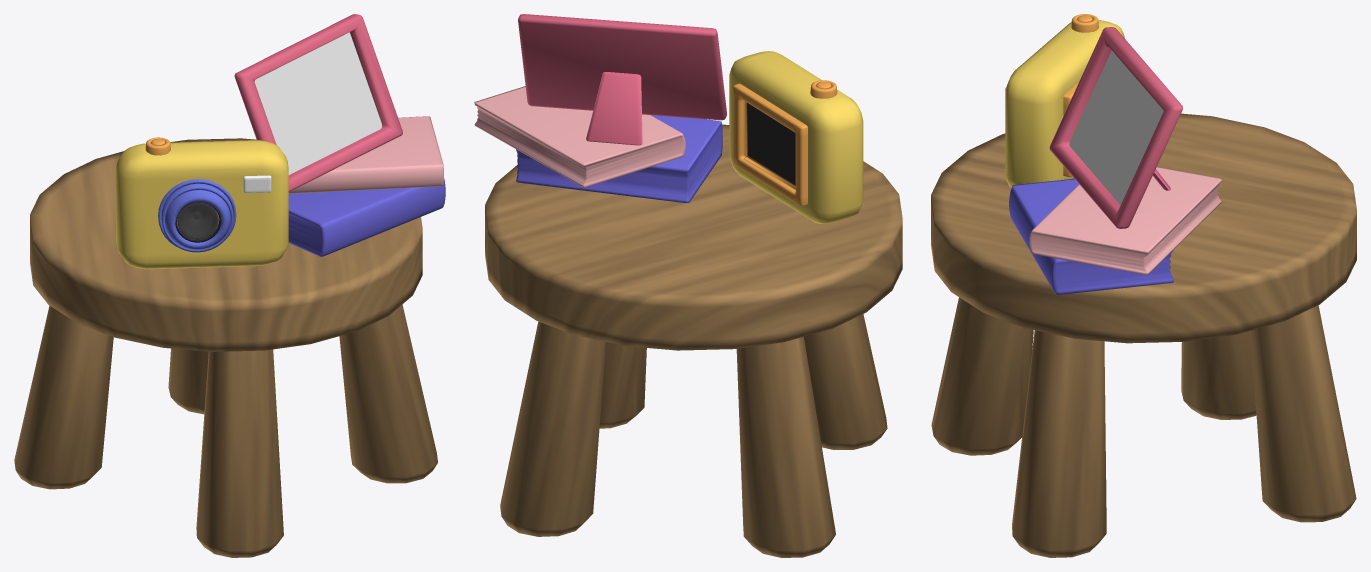
The model's file is table.glb.
The picture shows the model from 3 angles, left to right: view 1: azimuth 30°, elevation 25°; view 2: azimuth 150°, elevation 25°; view 3: azimuth 270°, elevation 25°; orthographic projection. The views are drawn at different scales.
Visible parts, largest first — view 1: table_legs, table, camera, frame_screen, book_big, frame, book_small, camera_lens_outer, camera_lens_inner, camera_lens; view 2: table, table_legs, frame, camera, book_small, book_big, camera_screen, frame_leg; view 3: table, table_legs, book_small, camera, frame_screen, frame, book_big.
Boxes of the visible parts, left/top/right/bottom form: table_legs: left=14, top=304, right=437, bottom=557; table: left=30, top=138, right=422, bottom=351; camera: left=116, top=140, right=288, bottom=269; frame_screen: left=254, top=32, right=381, bottom=174; book_big: left=288, top=178, right=445, bottom=256; frame: left=234, top=14, right=402, bottom=191; book_small: left=288, top=116, right=443, bottom=193; camera_lens_outer: left=158, top=179, right=236, bottom=252; camera_lens_inner: left=177, top=202, right=218, bottom=239; camera_lens: left=178, top=203, right=218, bottom=239; table: left=485, top=124, right=902, bottom=350; table_legs: left=500, top=314, right=887, bottom=557; frame: left=518, top=14, right=726, bottom=120; camera: left=729, top=51, right=863, bottom=223; book_small: left=474, top=86, right=685, bottom=187; book_big: left=515, top=115, right=722, bottom=202; camera_screen: left=733, top=83, right=807, bottom=206; frame_leg: left=586, top=72, right=642, bottom=145; table: left=931, top=113, right=1356, bottom=343; table_legs: left=931, top=297, right=1356, bottom=557; book_small: left=1029, top=167, right=1221, bottom=274; camera: left=1005, top=19, right=1124, bottom=187; frame_screen: left=1069, top=50, right=1163, bottom=205; frame: left=1049, top=27, right=1182, bottom=228; book_big: left=1009, top=178, right=1173, bottom=294.
Bounding box in the file's own units: 2.15 × 2.24 × 1.94.
Materials: 14 (12 with a texture image).
